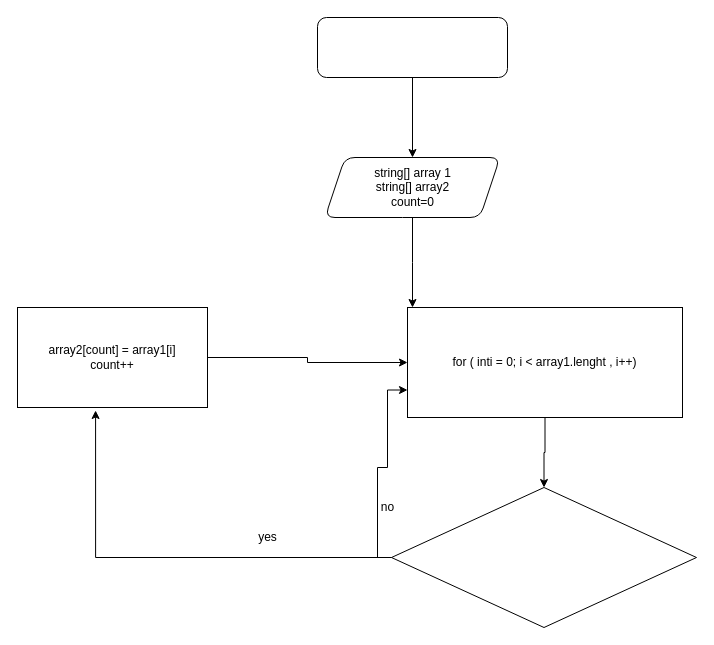
Image size: 714x645. Some labels were removed from this diagram. Here are the shapes that lost their labels. From the top down, the box of each, then its label:
(316, 16, 508, 78): bkbArray
(390, 486, 696, 628): if( array1[i].lenght <=3)
